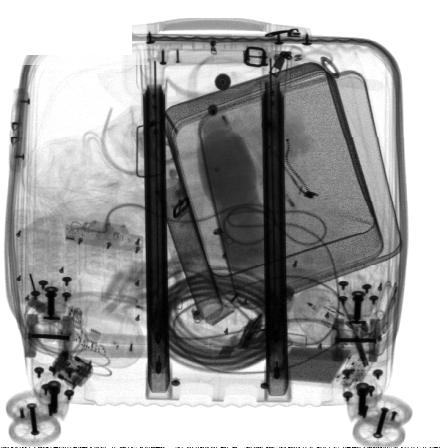Powerbank: (267, 341, 378, 393)
